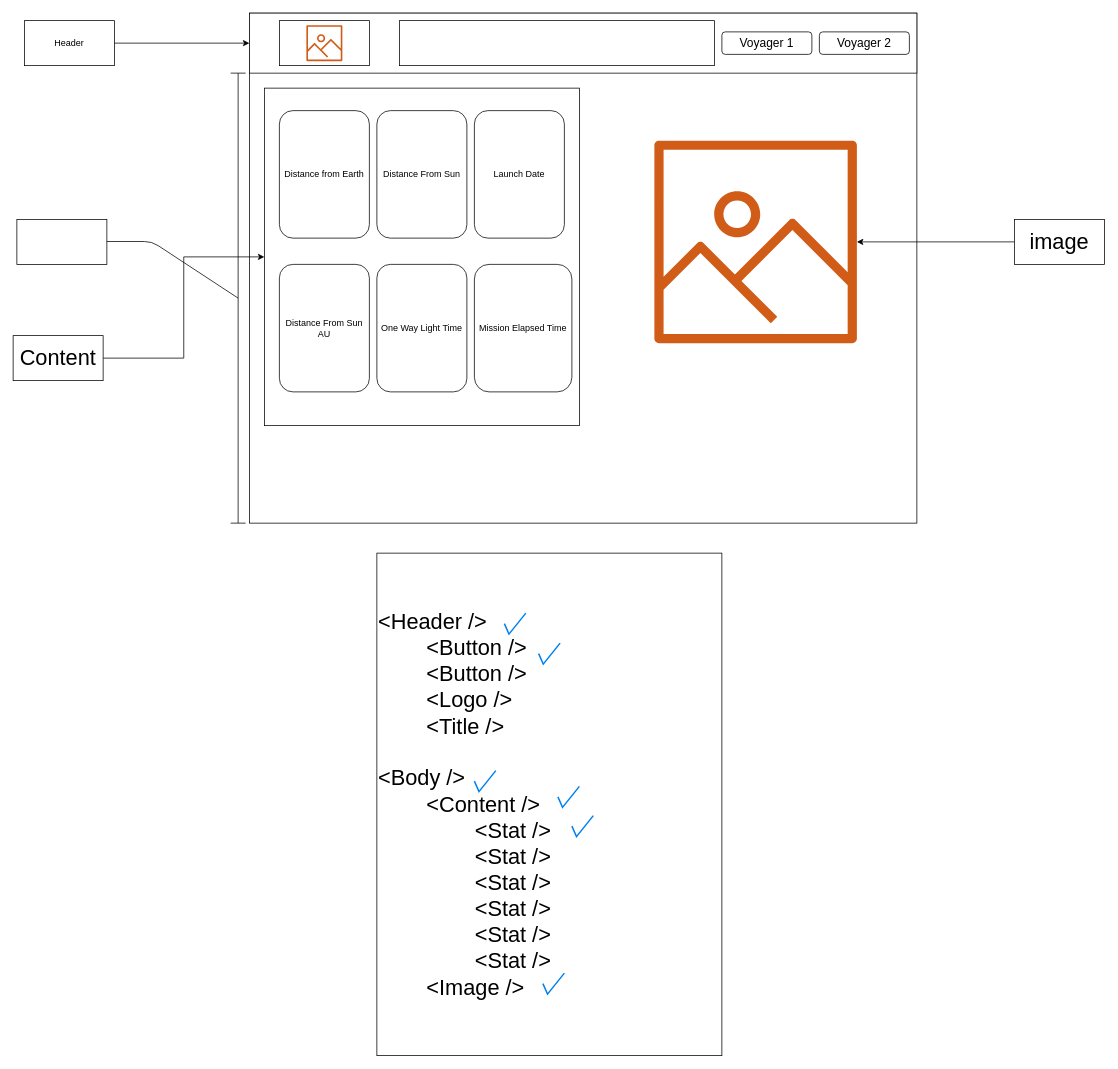
Some shapes in this 1118 by 1069 pixel diagram are drawn without their labels. The box of each missing label's shape, as (x1, y1, x2, y2) in pixels:
Body: (16, 219, 107, 264)
Voyager Probe Tracker: (399, 20, 714, 66)
